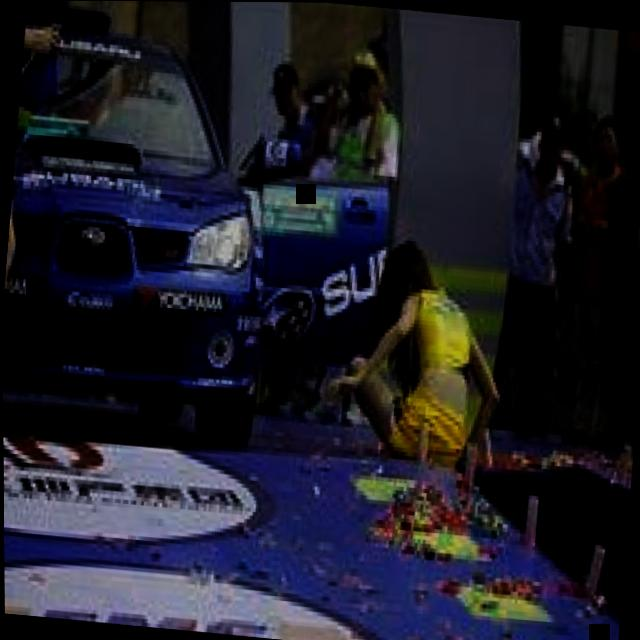Fall-Detected: (304, 212, 511, 474)
